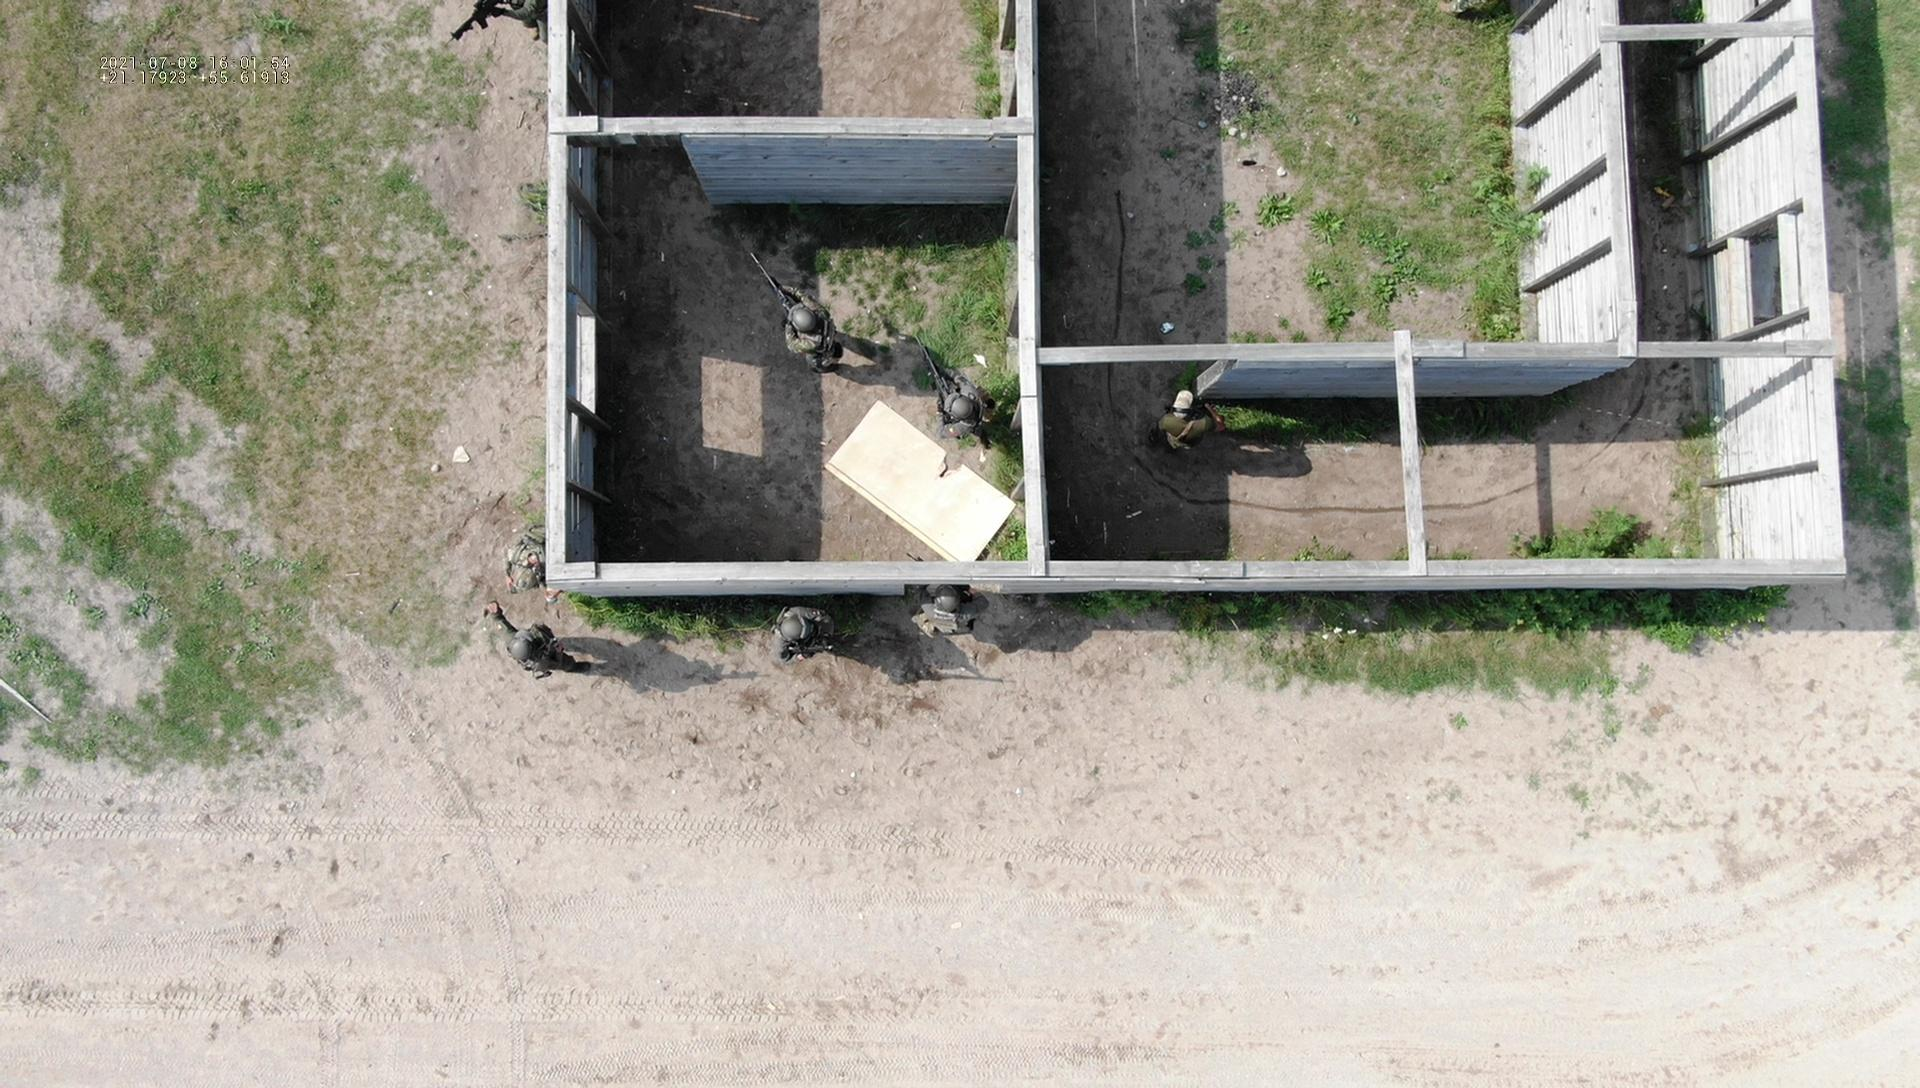Soldier: (741, 272, 868, 378), (1150, 360, 1226, 485), (489, 572, 568, 684), (897, 571, 985, 663), (938, 327, 1015, 429), (748, 575, 816, 667), (505, 512, 555, 611)
